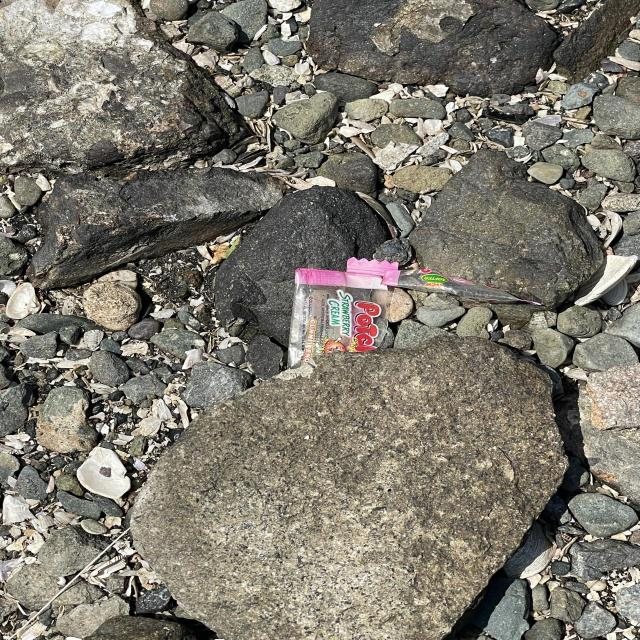plastic_waste: (290, 259, 401, 362)
